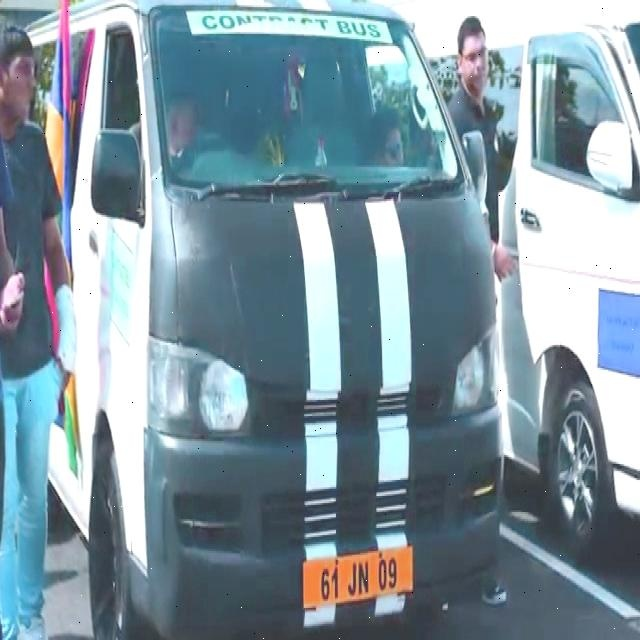Van: (32, 3, 525, 610)
